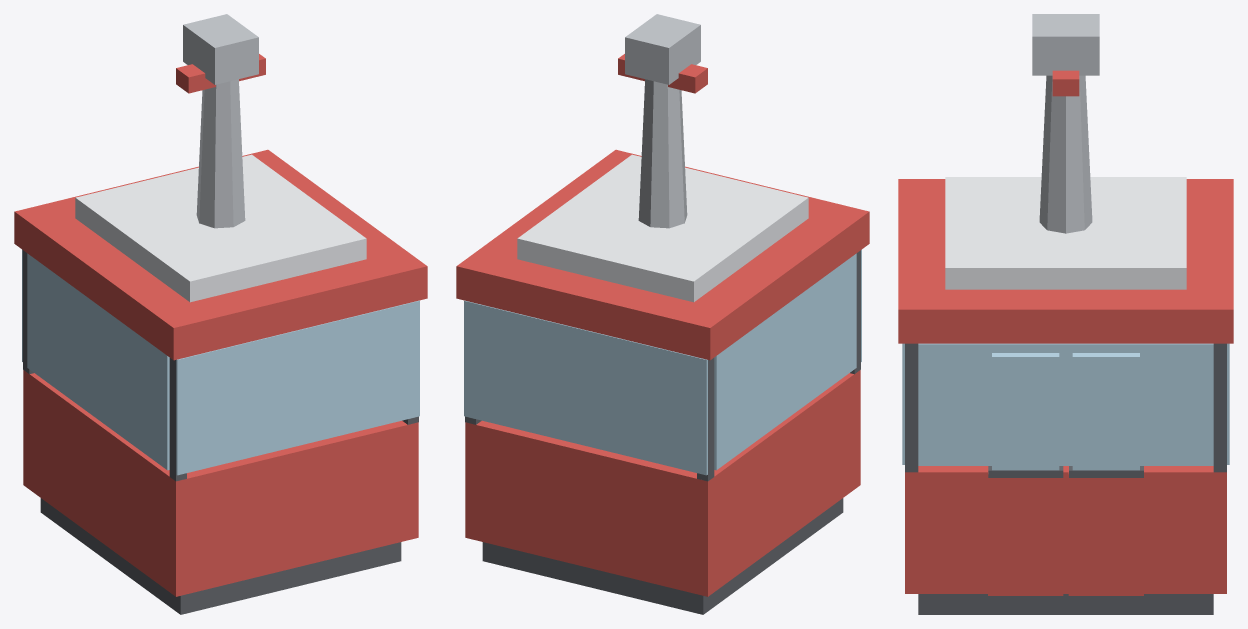
The model's file is ski-resort-and-snow-park-gondola-cabin-21ad408a__25953.glb.
The picture shows the model from 3 angles, left to right: view 1: azimuth 30°, elevation 25°; view 2: azimuth 150°, elevation 25°; view 3: azimuth 270°, elevation 25°; orthographic projection. The views are drawn at different scales.
Parts seen in each view (by area): view 1: gondola-cabin; view 2: gondola-cabin; view 3: gondola-cabin, door-front (×3), door-rear (×3).
Part boxes in pixels (x1,y1,x2,y2): gondola-cabin: (14, 14, 427, 614); gondola-cabin: (456, 14, 869, 614); gondola-cabin: (898, 14, 1233, 614); door-front (×3): (988, 353, 1063, 595); door-rear (×3): (1068, 353, 1143, 595).
Bounding box in the file's own units: 2.35 × 4.38 × 2.5.
